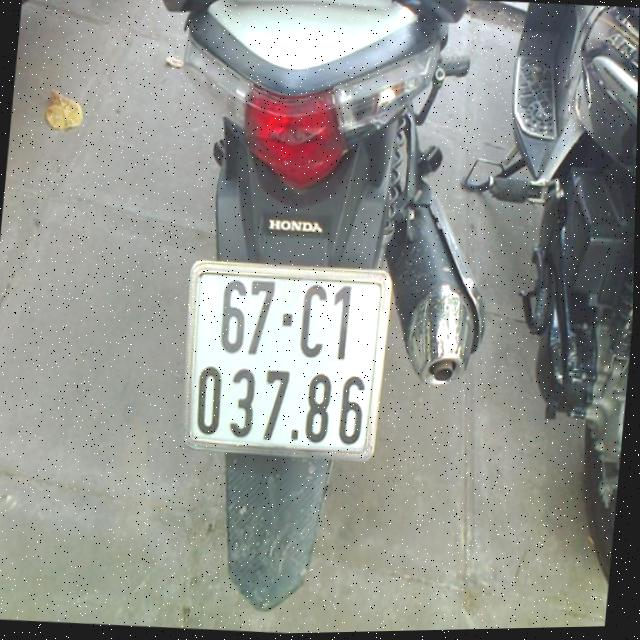motorcycle: (102, 0, 531, 637), (443, 0, 640, 606)
plate: (172, 251, 392, 468)
